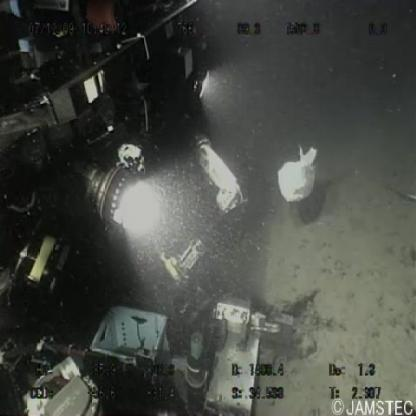Rov: (1, 1, 328, 414)
Rác: (272, 140, 324, 210)
